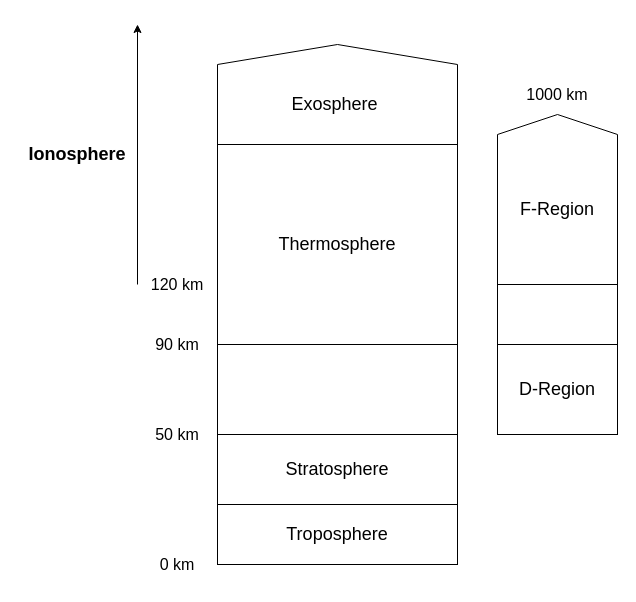
Some shapes in this 636 by 602 pixel diagram are drawn without their labels. Here are the shapes that lost their labels. From the top down, the centre of each, then its label:
the point at 557,314: E-Region
the point at 337,389: Mesosphere
